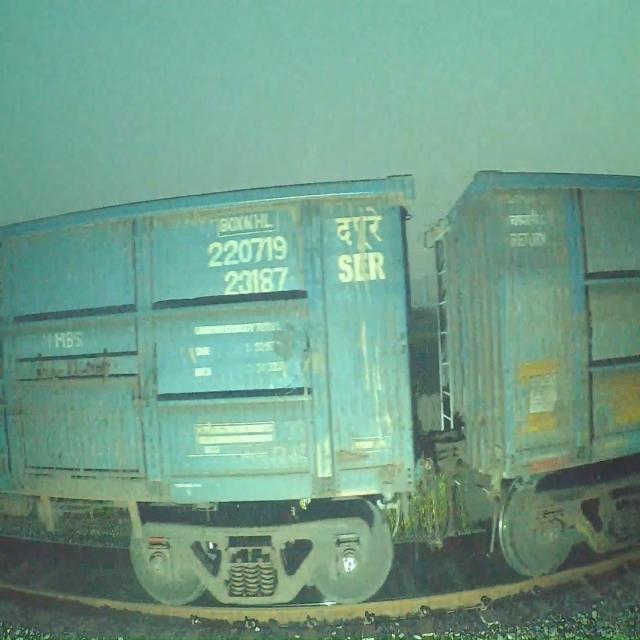WAgon-uic: (0, 165, 428, 614), (412, 165, 640, 586)
uic: (200, 230, 296, 302)
